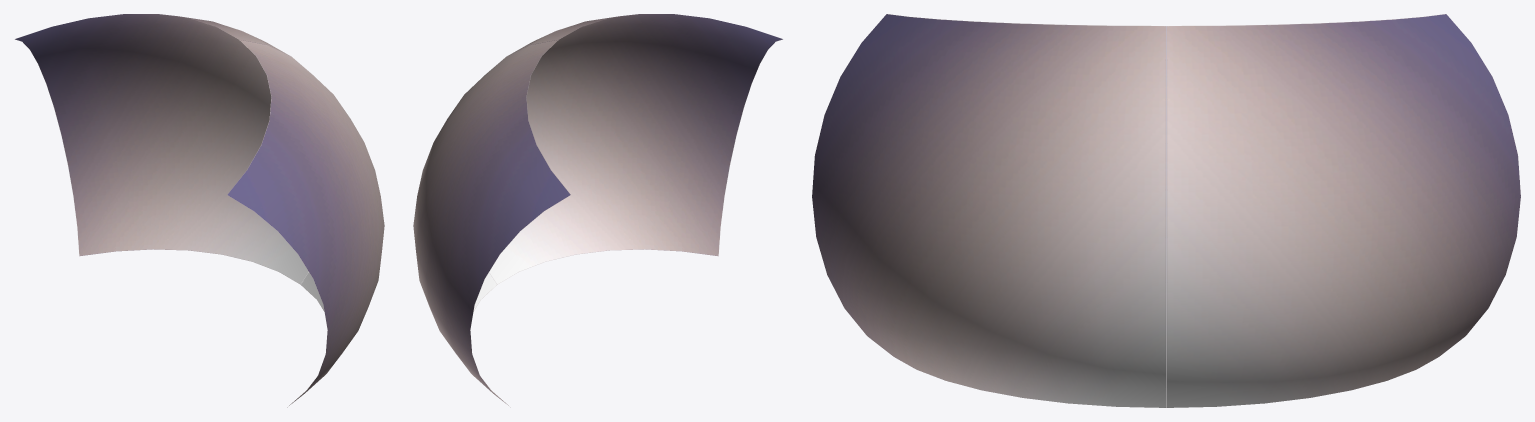
The model's file is Shield_Wing.FBX.
The picture shows the model from 3 angles, left to right: view 1: azimuth 30°, elevation 25°; view 2: azimuth 150°, elevation 25°; view 3: azimuth 270°, elevation 25°; orthographic projection. The views are drawn at different scales.
Visible parts, largest first — view 1: transform; view 2: transform; view 3: transform.
Boxes of the visible parts, <box> form: transform: <box>15,14,384,407</box>; transform: <box>413,14,782,407</box>; transform: <box>812,14,1520,407</box>.
Size of the model in its own units: 191 by 227 by 398.
